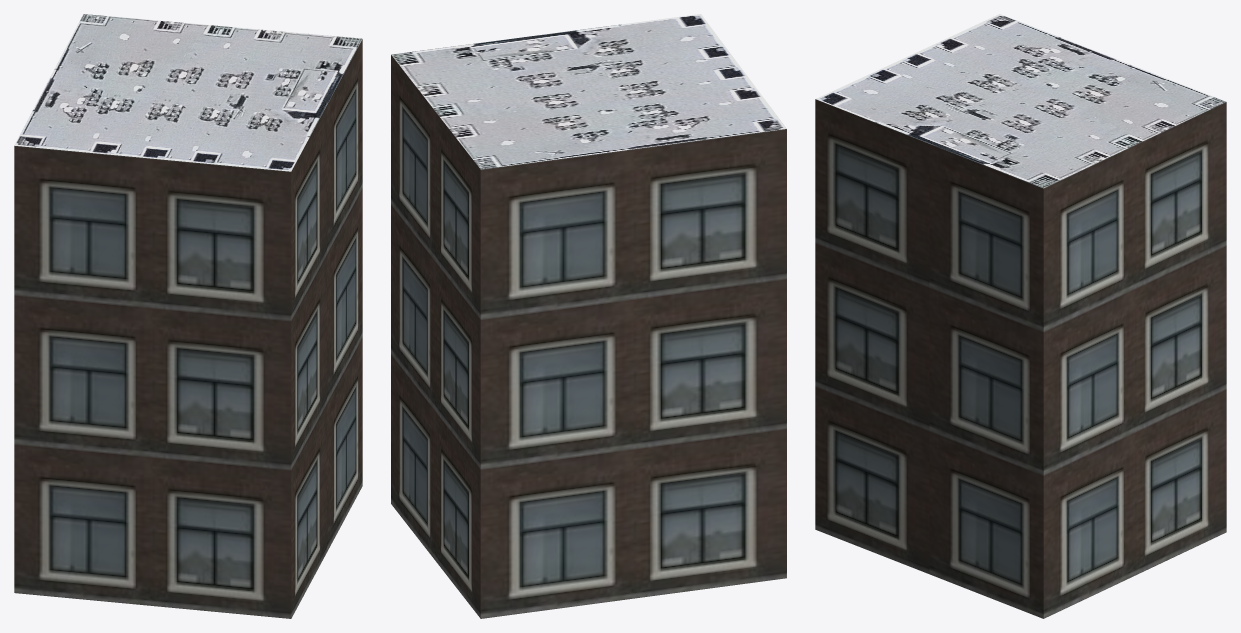
File: ResTex__4232.fbx
3 views of the same model, side by side, from view 1: azimuth 30°, elevation 25°; view 2: azimuth 150°, elevation 25°; view 3: azimuth 270°, elevation 25° (orthographic). The views are drawn at different scales.
Visible parts, largest first — view 1: CityEngineMaterial_16_m, CityEngineMaterial_15_m; view 2: CityEngineMaterial_16_m, CityEngineMaterial_15_m; view 3: CityEngineMaterial_16_m, CityEngineMaterial_15_m.
Boxes of the visible parts, box(x1,y1,x2,y2) form: CityEngineMaterial_16_m: box(14, 39, 362, 618); CityEngineMaterial_15_m: box(14, 14, 362, 171); CityEngineMaterial_16_m: box(391, 55, 786, 618); CityEngineMaterial_15_m: box(391, 14, 786, 169); CityEngineMaterial_16_m: box(815, 99, 1226, 618); CityEngineMaterial_15_m: box(816, 14, 1226, 188).
Bounding box in the file's own units: 7.82 × 9 × 7.79.
Materials: 2 (2 with a texture image).
